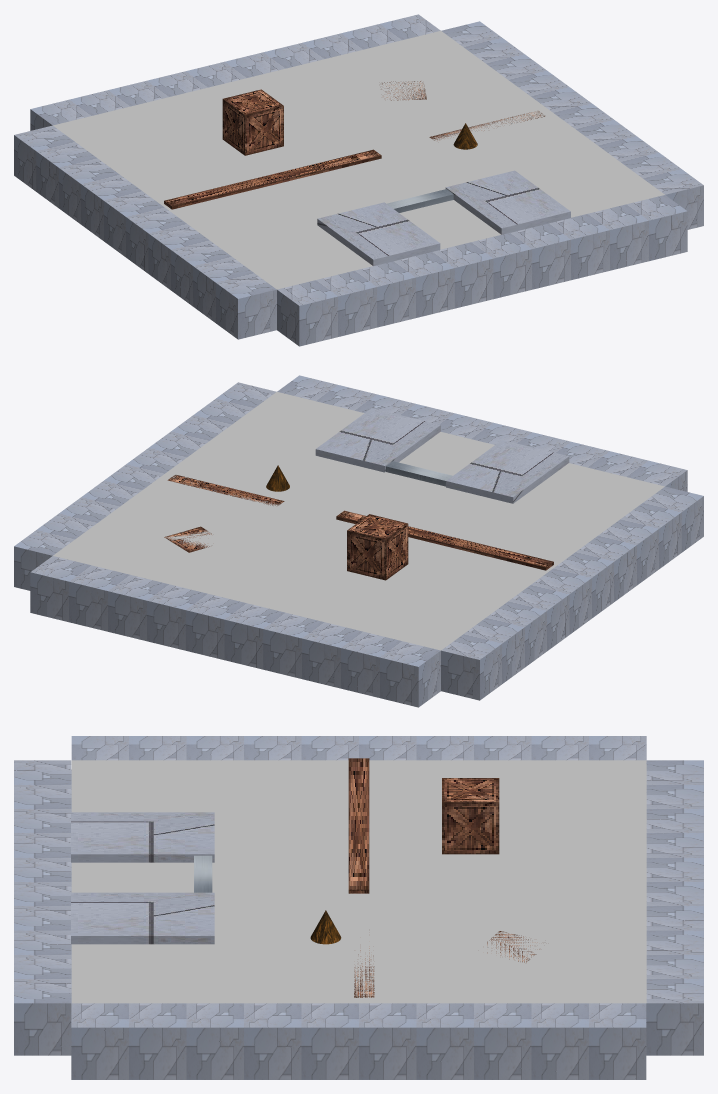
3 views of the same model, one above another, from view 1: azimuth 30°, elevation 25°; view 2: azimuth 150°, elevation 25°; view 3: azimuth 270°, elevation 25° (orthographic). The views are drawn at different scales.
Visible parts, largest first — view 1: Ceiling, Wall.002, Wall.001, Wall.003, Wall.000, Cube.001, Cube, Box.003, Box.000, Cube.002; view 2: Ceiling, Wall.000, Wall.001, Wall.003, Wall.002, Cube.001, Cube, Box.003, Box.000, Box.001, Cube.002, Box.005; view 3: Ceiling, Wall.003, Wall.000, Wall.002, Wall.001, Cube.001, Cube, Box.003, Box.000, Cube.002, Cone.
Part boxes in pixels (left/top/right/bottom): Ceiling: left=53, top=31, right=664, bottom=289; Wall.002: left=277, top=195, right=687, bottom=346; Wall.001: left=14, top=125, right=276, bottom=339; Wall.003: left=441, top=21, right=703, bottom=229; Wall.000: left=30, top=14, right=440, bottom=130; Cube.001: left=445, top=170, right=570, bottom=234; Cube: left=317, top=202, right=440, bottom=266; Box.003: left=222, top=89, right=283, bottom=155; Box.000: left=164, top=149, right=381, bottom=209; Cube.002: left=386, top=189, right=453, bottom=212; Ceiling: left=53, top=392, right=664, bottom=650; Wall.000: left=30, top=556, right=440, bottom=707; Wall.001: left=441, top=486, right=703, bottom=700; Wall.003: left=14, top=382, right=276, bottom=590; Wall.002: left=277, top=375, right=687, bottom=491; Cube.001: left=315, top=408, right=440, bottom=472; Cube: left=446, top=440, right=569, bottom=503; Box.003: left=347, top=514, right=408, bottom=580; Box.000: left=336, top=510, right=553, bottom=570; Box.001: left=167, top=475, right=284, bottom=505; Cube.002: left=385, top=461, right=452, bottom=486; Box.005: left=164, top=526, right=211, bottom=552; Ceiling: left=71, top=760, right=646, bottom=1003; Wall.003: left=71, top=1003, right=646, bottom=1079; Wall.000: left=646, top=760, right=703, bottom=1055; Wall.002: left=14, top=760, right=71, bottom=1055; Wall.001: left=71, top=736, right=646, bottom=760; Cube.001: left=71, top=892, right=214, bottom=944; Cube: left=71, top=812, right=214, bottom=862; Box.003: left=442, top=778, right=499, bottom=854; Box.000: left=348, top=758, right=369, bottom=893; Cube.002: left=194, top=855, right=212, bottom=892; Cone: left=310, top=910, right=341, bottom=944.
Bounding box in the file's own units: 24 × 4.14 × 24.
